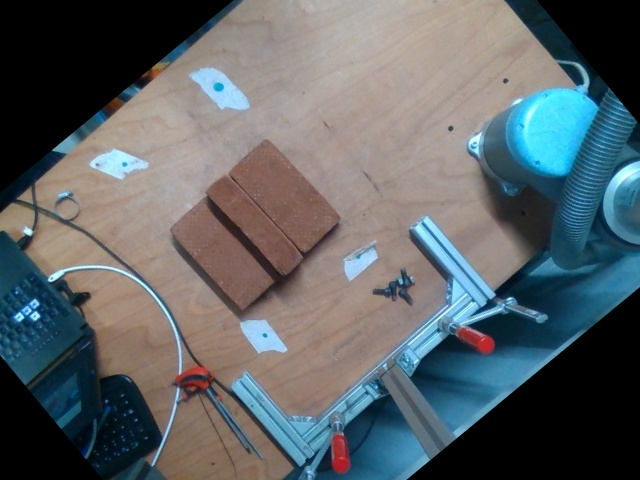brick: (231, 139, 340, 251), (169, 198, 278, 310)
brick-side: (205, 175, 304, 277)
